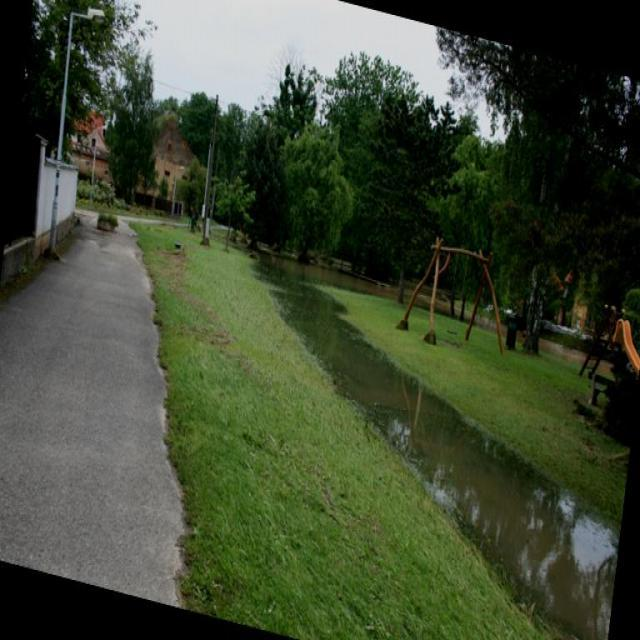flood: (224, 244, 639, 639)
